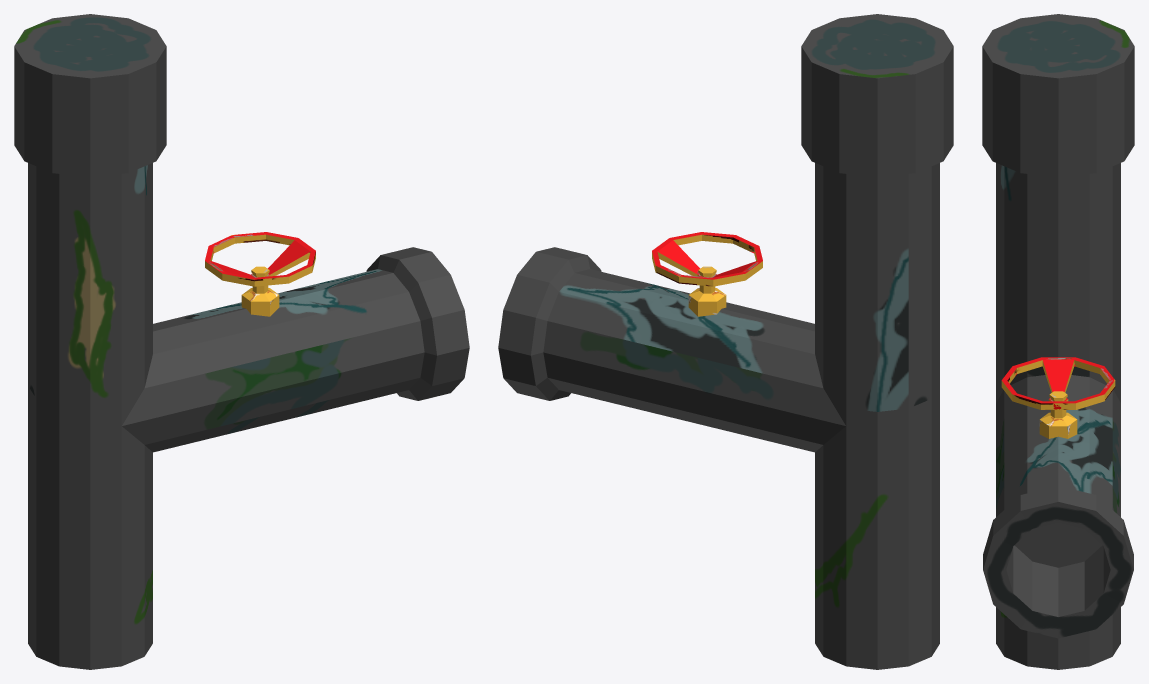
The model's file is PIPE.fbx.
3 views of the same model, side by side, from view 1: azimuth 30°, elevation 25°; view 2: azimuth 150°, elevation 25°; view 3: azimuth 270°, elevation 25° (orthographic).
Visible parts, largest first — view 1: Vavle.001; view 2: Vavle.001; view 3: Vavle.001.
Part boxes in pixels (box(x1,y1,x2,y2)): Vavle.001: box(14, 14, 469, 669); Vavle.001: box(498, 14, 953, 669); Vavle.001: box(982, 14, 1134, 669).
Size of the model in its own units: 753 by 1055 by 244.
1 material, 1 textured.
